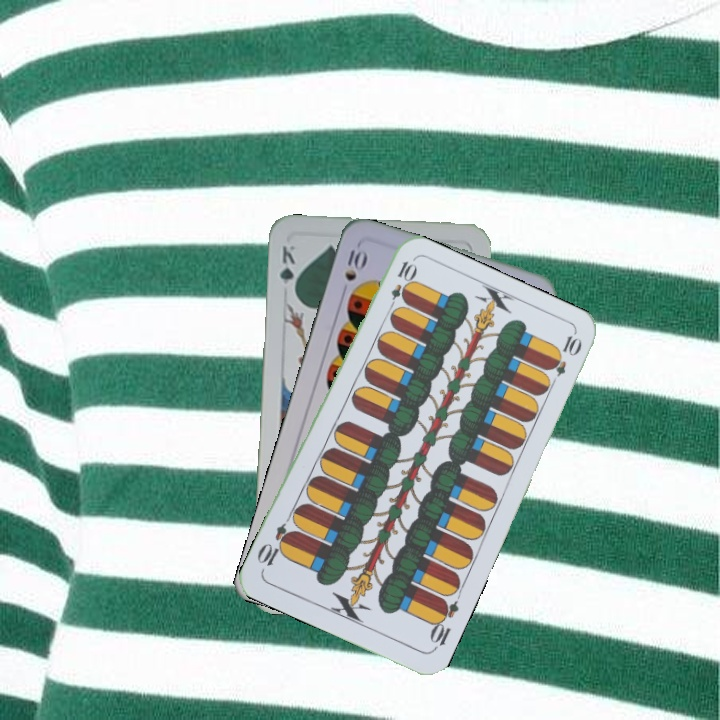E10: (425, 595, 461, 653), (384, 257, 418, 315)
GK: (275, 241, 298, 298)
S10: (340, 243, 370, 284)
